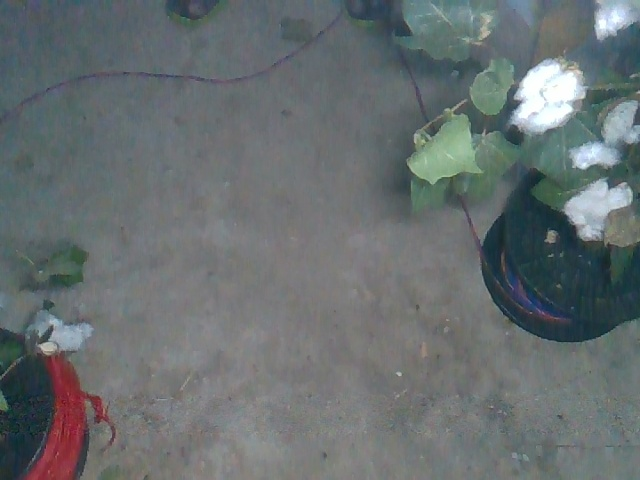cotton: (508, 55, 587, 136), (562, 177, 634, 243), (22, 310, 99, 356), (567, 139, 629, 173), (590, 1, 639, 42), (600, 98, 640, 145)
